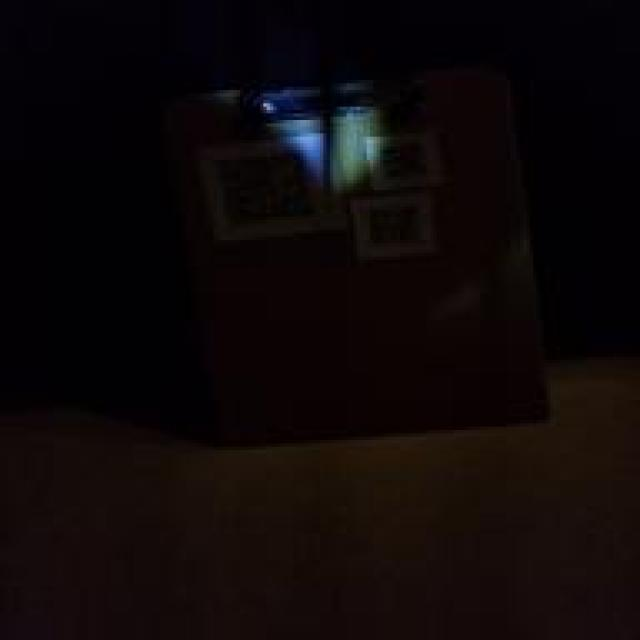QR_CODE: (206, 143, 322, 230), (360, 197, 443, 255), (373, 136, 435, 182)
